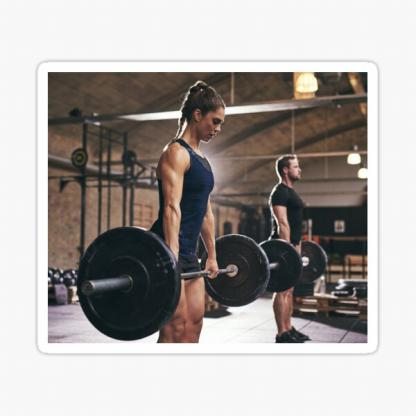Barbell: (72, 221, 184, 343)
